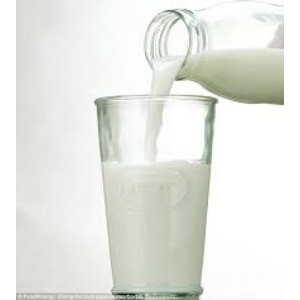milk_brain food: (104, 150, 213, 289), (150, 44, 277, 98)
